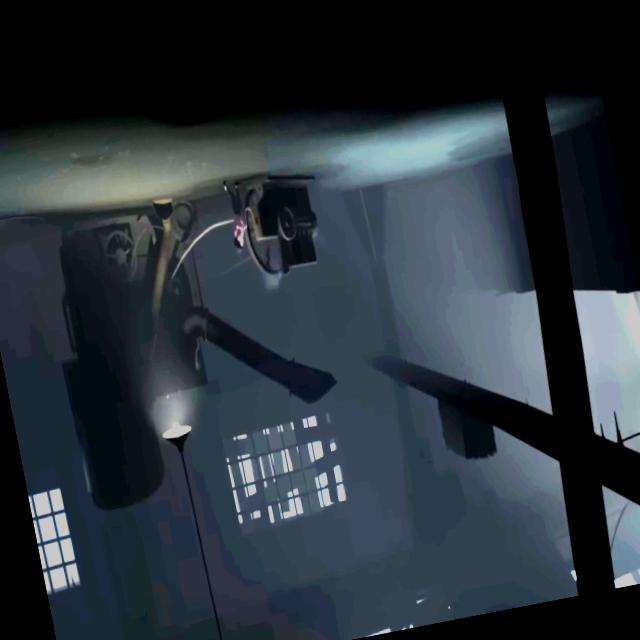boy: (222, 176, 271, 252)
